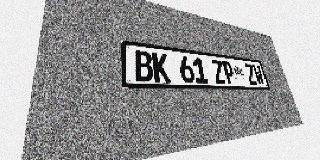1: (191, 57, 208, 83)
6: (178, 55, 196, 83)
B: (134, 50, 154, 82)
K: (152, 52, 171, 82)
P: (221, 61, 236, 84)
W: (252, 64, 265, 85)
Z: (211, 59, 226, 84), (244, 64, 258, 85)
